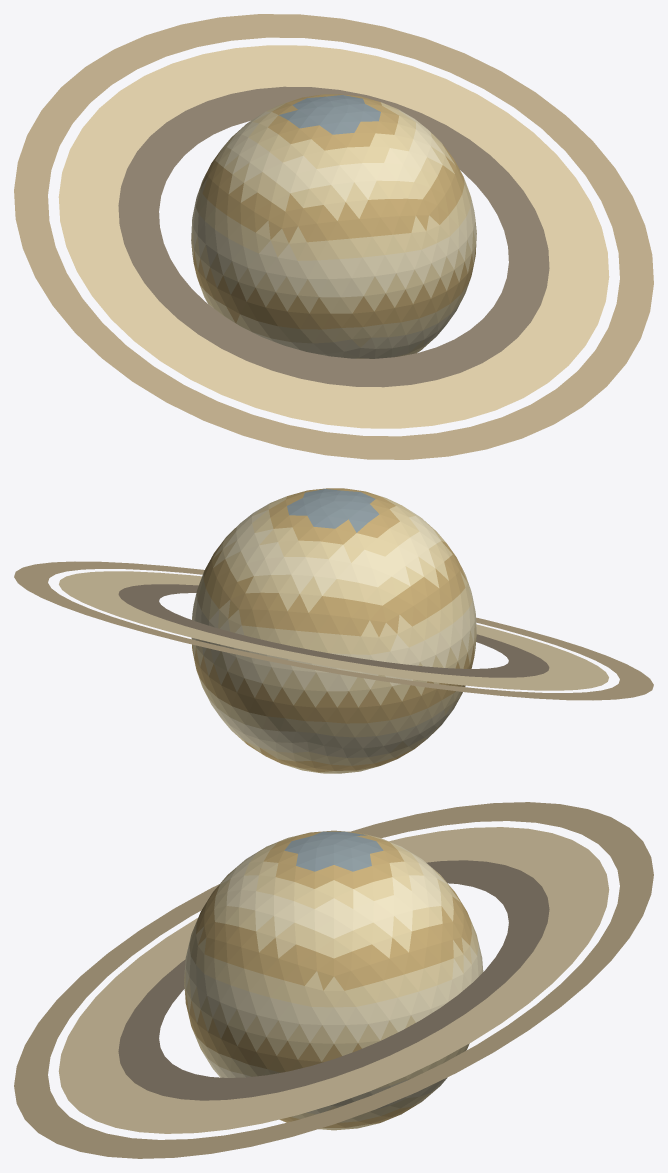
File: Saturno.glb
3 views of the same model, one above another, from view 1: azimuth 30°, elevation 25°; view 2: azimuth 150°, elevation 25°; view 3: azimuth 270°, elevation 25° (orthographic). The views are drawn at different scales.
Visible parts, largest first — view 1: Anillo_Saturno, Saturno; view 2: Saturno, Anillo_Saturno; view 3: Anillo_Saturno, Saturno.
Boxes of the visible parts, bbox=[...] form: Anillo_Saturno: bbox=[14, 14, 653, 459]; Saturno: bbox=[191, 94, 476, 358]; Saturno: bbox=[191, 488, 476, 773]; Anillo_Saturno: bbox=[14, 561, 653, 700]; Anillo_Saturno: bbox=[14, 802, 653, 1158]; Saturno: bbox=[184, 830, 483, 1130].
Bounding box in the file's own units: 7.72 × 3.4 × 7.25.
